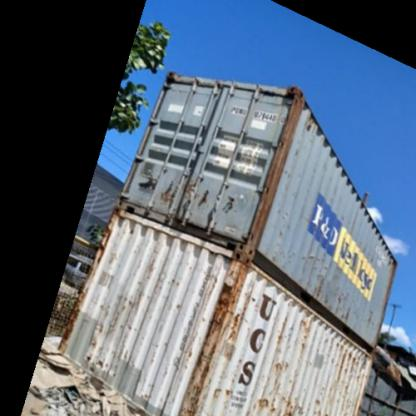Damage: (201, 260, 254, 393), (322, 336, 366, 392), (171, 296, 200, 372), (85, 298, 111, 378), (146, 256, 186, 296), (252, 392, 308, 416), (112, 288, 136, 332), (270, 201, 292, 239), (294, 315, 312, 355), (270, 308, 286, 352), (310, 272, 330, 306), (336, 290, 352, 326), (272, 249, 302, 268), (304, 247, 330, 263), (272, 360, 286, 387), (311, 394, 323, 414), (364, 308, 375, 326)
